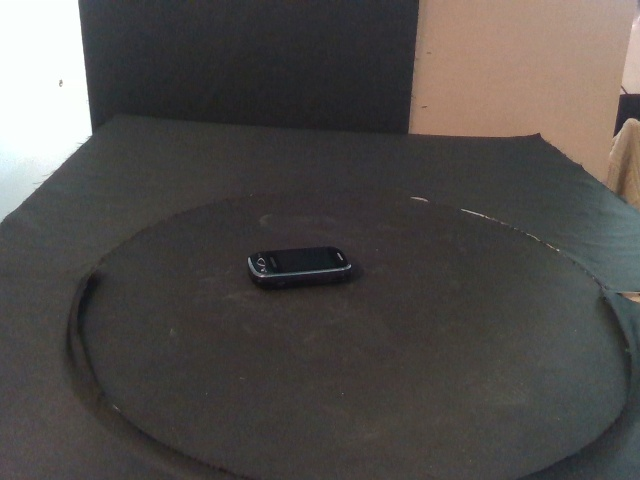phone: (246, 245, 353, 290)
